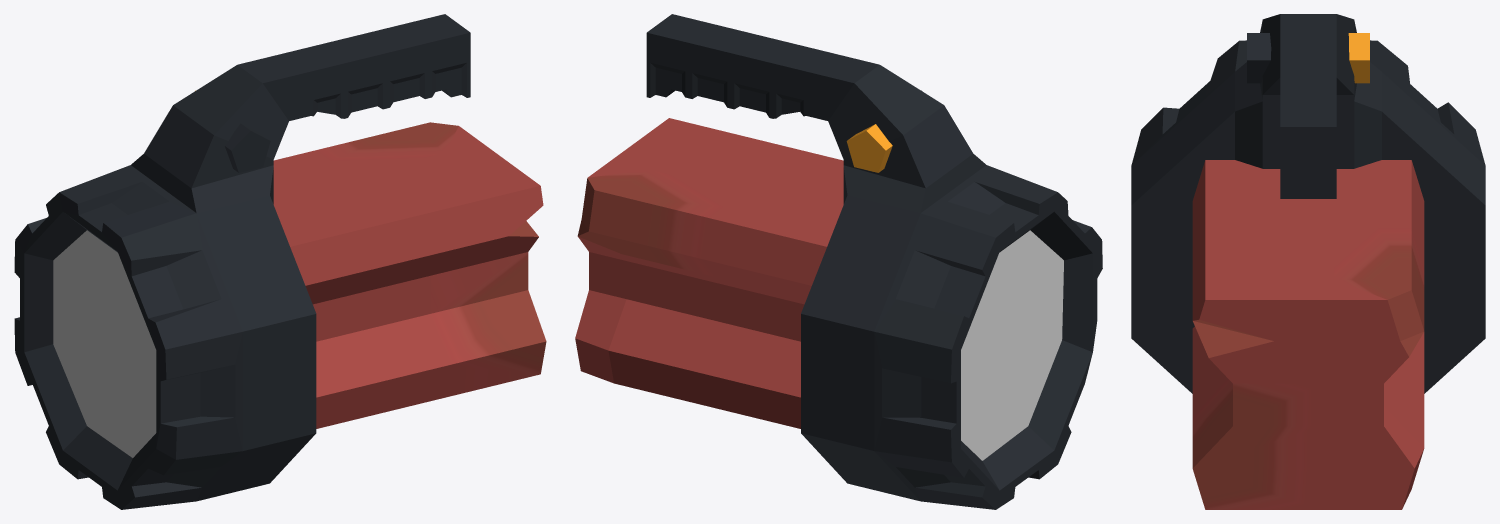
The model's file is SM_Flashlight.fbx.
The picture shows the model from 3 angles, left to right: view 1: azimuth 30°, elevation 25°; view 2: azimuth 150°, elevation 25°; view 3: azimuth 270°, elevation 25°; orthographic projection. The views are drawn at different scales.
Parts seen in each view (by area): view 1: SM_Flashlight; view 2: SM_Flashlight; view 3: SM_Flashlight.
Part boxes in pixels (x1=…): SM_Flashlight: x1=14, y1=14, x2=546, y2=509; SM_Flashlight: x1=575, y1=14, x2=1102, y2=509; SM_Flashlight: x1=1131, y1=14, x2=1485, y2=509.
Bounding box in the file's own units: 30.99 × 28 × 21.12.
